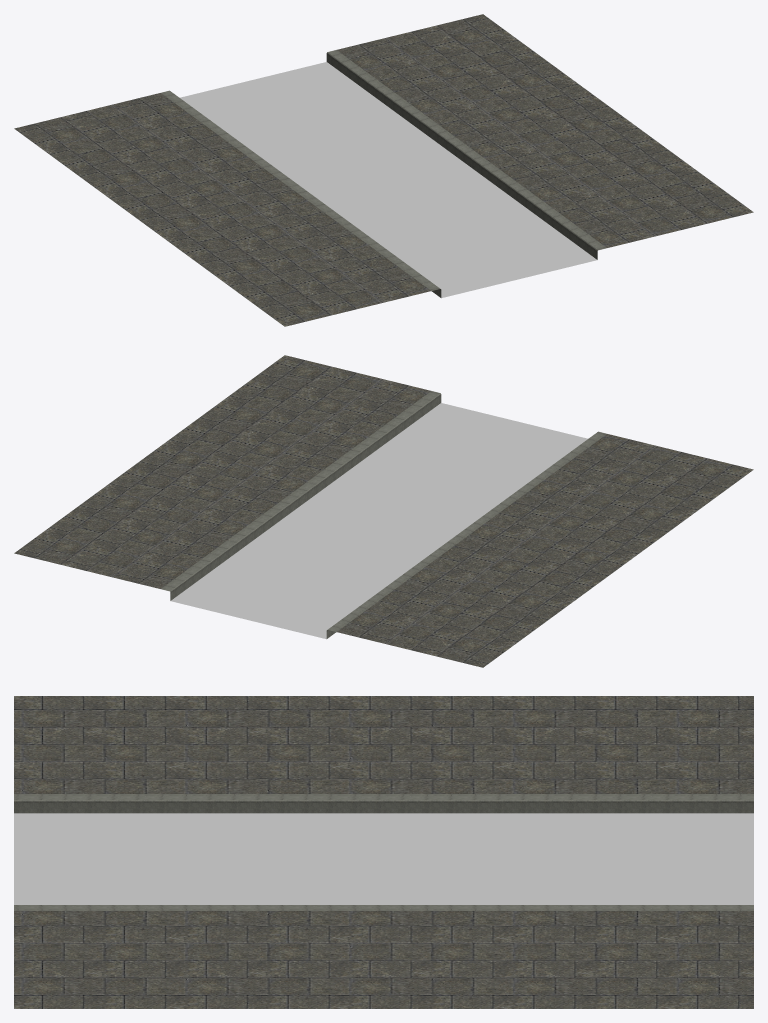
Rendered from CT_Road_Lane_01.fbx.
3 views of the same model, one above another, from view 1: azimuth 30°, elevation 25°; view 2: azimuth 150°, elevation 25°; view 3: azimuth 270°, elevation 25° (orthographic). The views are drawn at different scales.
Visible parts, largest first — view 1: CT_Road_Lane_01; view 2: CT_Road_Lane_01; view 3: CT_Road_Lane_01.
Part boxes in pixels (bbox=[...]): CT_Road_Lane_01: bbox=[14, 14, 753, 326]; CT_Road_Lane_01: bbox=[14, 355, 753, 667]; CT_Road_Lane_01: bbox=[14, 696, 753, 1008].
Size of the model in its own units: 768 by 15 by 768.
